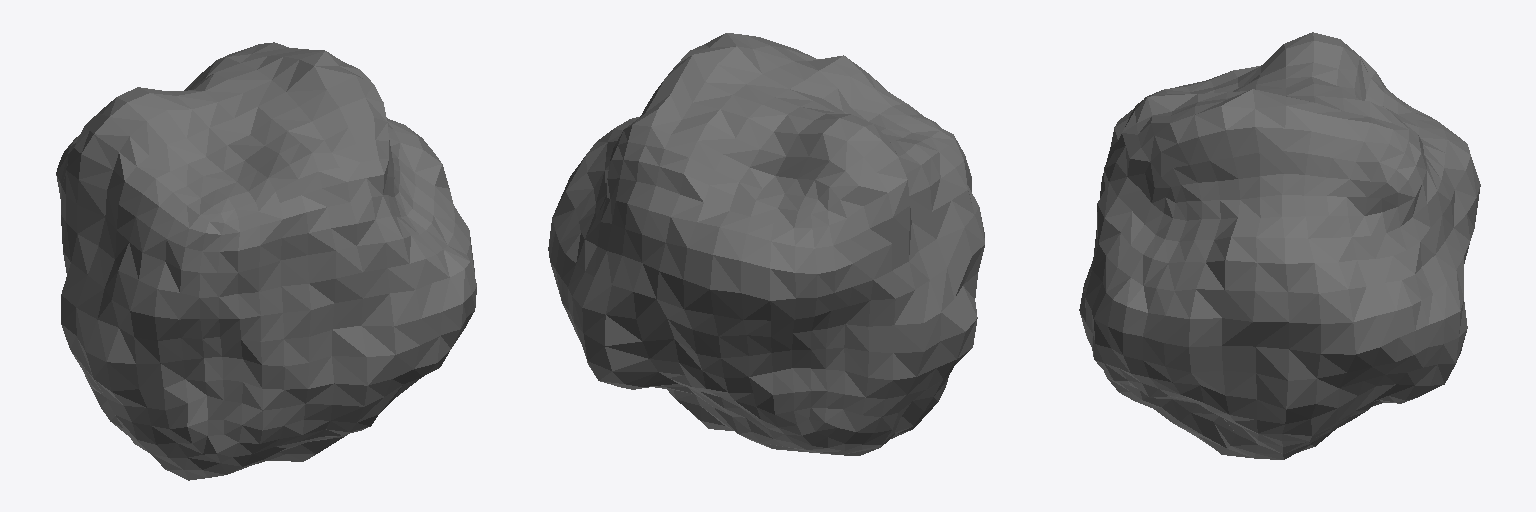
File: New_Stone_Forest.obj
3 views of the same model, side by side, from view 1: azimuth 30°, elevation 25°; view 2: azimuth 150°, elevation 25°; view 3: azimuth 270°, elevation 25° (orthographic).
Visible parts, largest first — view 1: Stone_F_1_LOD1.002; view 2: Stone_F_1_LOD1.002; view 3: Stone_F_1_LOD1.002.
Boxes of the visible parts, x1=… form: Stone_F_1_LOD1.002: x1=56, y1=42, x2=476, y2=480; Stone_F_1_LOD1.002: x1=548, y1=33, x2=984, y2=455; Stone_F_1_LOD1.002: x1=1079, y1=32, x2=1480, y2=459.
Size of the model in its own units: 94.76 by 92.9 by 89.47.